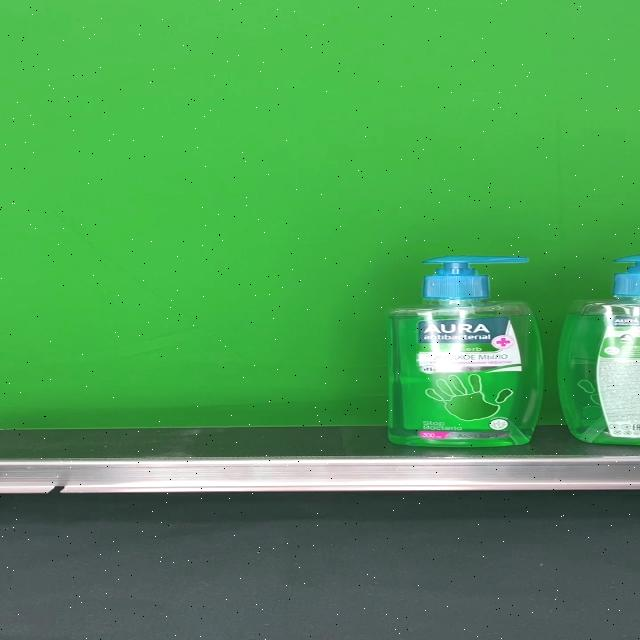Bottle: (389, 255, 544, 448)
Cap: (420, 255, 528, 299)
